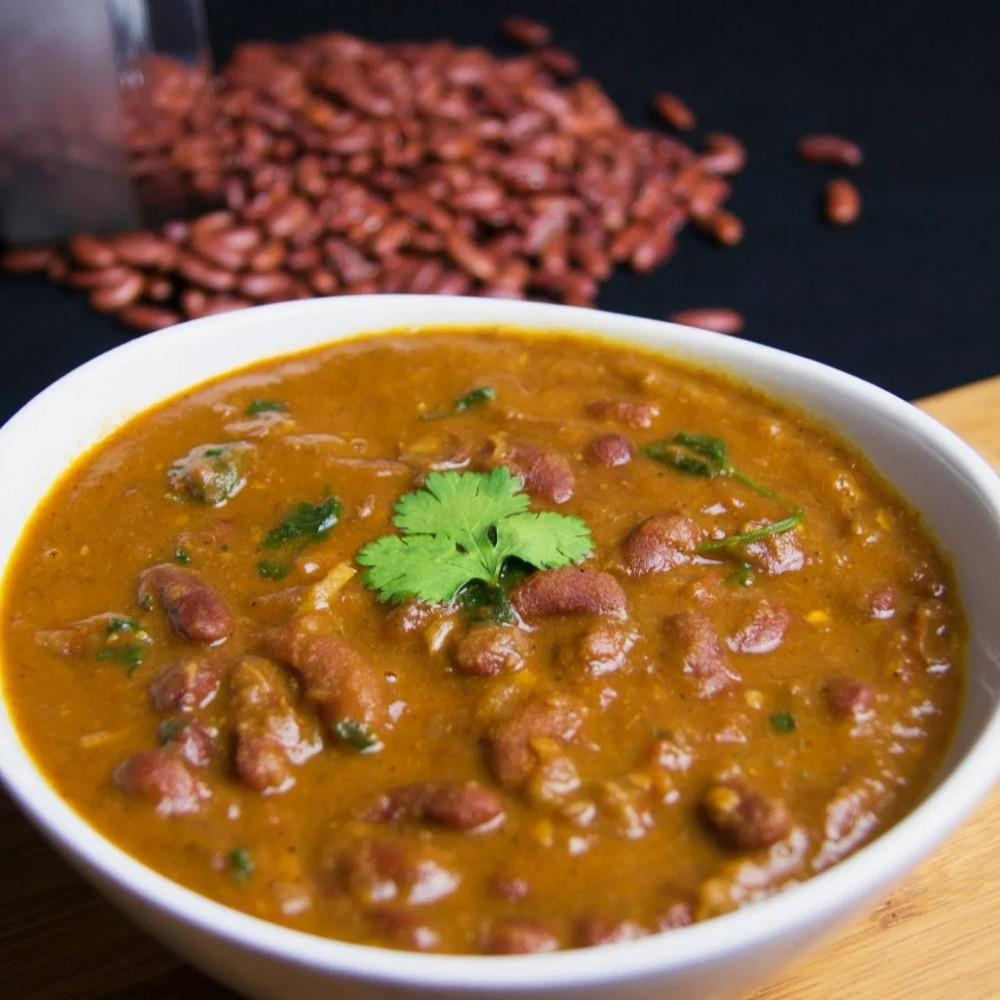RajmaCurry: (21, 332, 968, 945)
